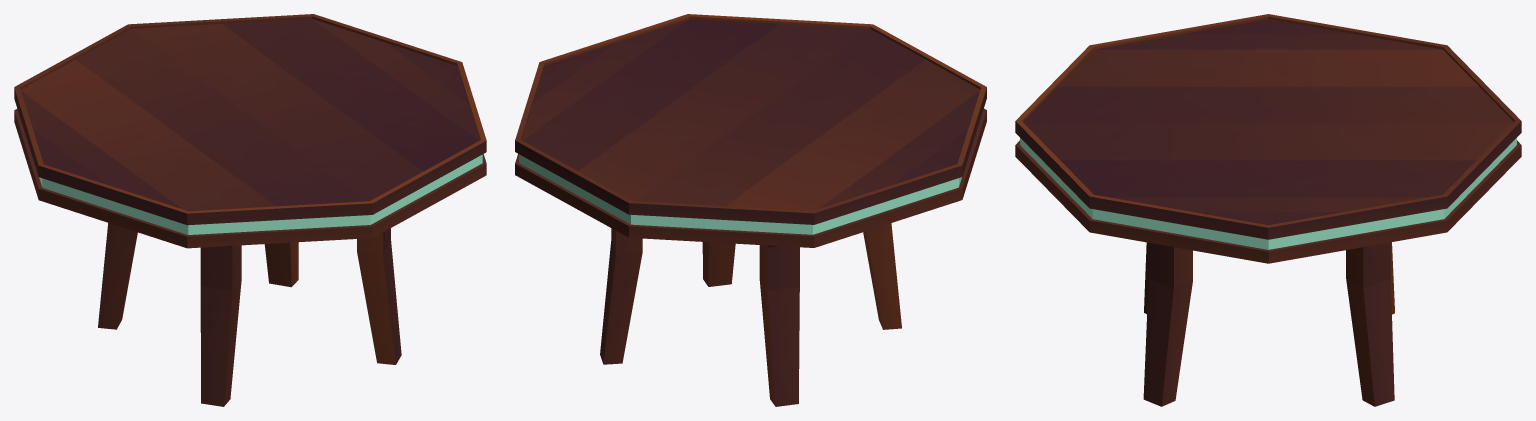
File: Prop_Table_Wood.fbx
3 renders of one model, left to right at view 1: azimuth 30°, elevation 25°; view 2: azimuth 150°, elevation 25°; view 3: azimuth 270°, elevation 25°, orthographic. The views are drawn at different scales.
Visible parts, largest first — view 1: Table_Round; view 2: Table_Round; view 3: Table_Round.
Part boxes in pixels (bbox=[...]): Table_Round: bbox=[14, 14, 486, 406]; Table_Round: bbox=[515, 14, 986, 406]; Table_Round: bbox=[1015, 14, 1521, 406].
Bounding box in the file's own units: 106 × 54.49 × 106.
